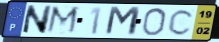1: (89, 6, 103, 36)
C: (167, 8, 196, 37)
M: (103, 6, 143, 37), (45, 5, 82, 36)
N: (20, 5, 54, 35)
O: (140, 7, 168, 37)
